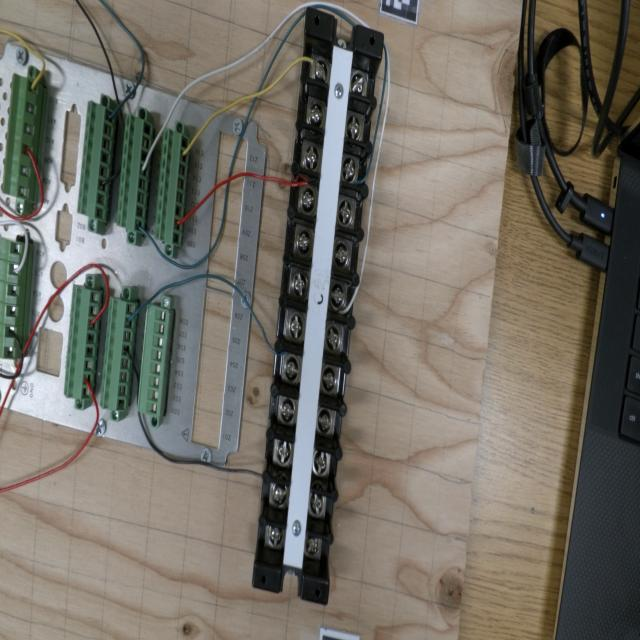Phillips_Block: (252, 8, 385, 605)
Terminal_1: (1, 73, 42, 201)
Terminal_2: (76, 100, 117, 223), (116, 113, 154, 234), (153, 127, 191, 247), (99, 297, 138, 411), (64, 284, 102, 400)
